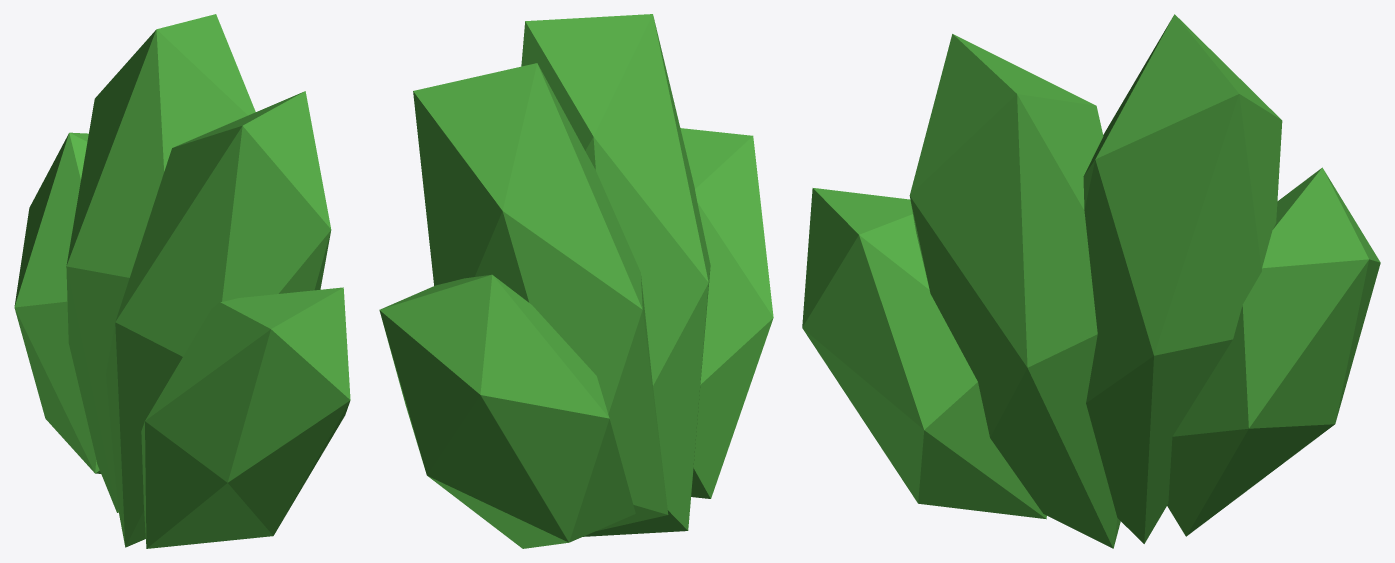
File: kusa.fbx
The picture shows the model from 3 angles, left to right: view 1: azimuth 30°, elevation 25°; view 2: azimuth 150°, elevation 25°; view 3: azimuth 270°, elevation 25°; orthographic projection. The views are drawn at different scales.
Parts seen in each view (by area): view 1: kusa6; view 2: kusa6; view 3: kusa6.
Boxes of the visible parts, x1,y1,x2,y2 form: kusa6: (14,14,350,548); kusa6: (379,14,773,548); kusa6: (802,14,1380,548).
Bounding box in the file's own units: 0.2284 × 0.4667 × 0.4599.
